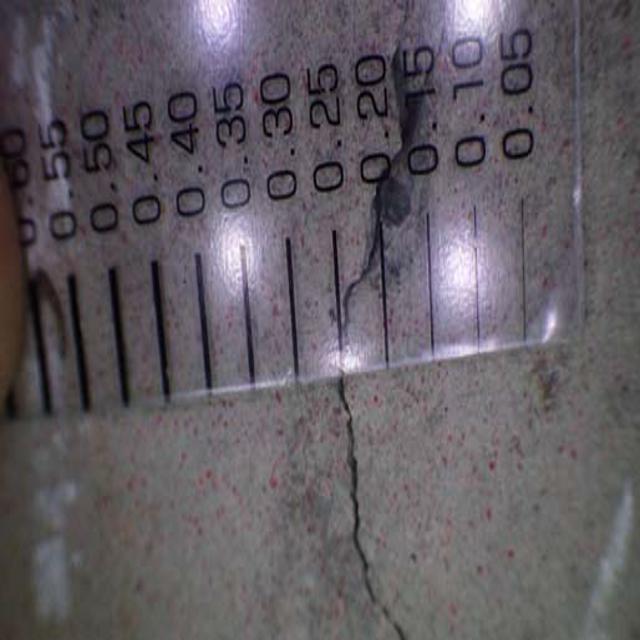crack: (334, 387, 420, 640)
